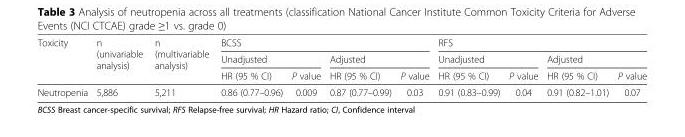table: (36, 36, 646, 97)
table column: (214, 36, 286, 97), (324, 36, 395, 97), (541, 36, 612, 97), (433, 36, 503, 97), (148, 36, 214, 97), (91, 36, 148, 97), (36, 36, 91, 97), (286, 36, 324, 97), (395, 36, 433, 97), (503, 36, 541, 97), (612, 36, 646, 97)
table column header: (36, 36, 646, 83)
table row: (36, 50, 646, 67), (36, 67, 646, 83), (36, 36, 646, 50), (36, 83, 646, 97)
table spanning cell: (148, 36, 214, 83), (214, 36, 433, 50), (433, 36, 646, 50), (91, 36, 148, 83), (36, 36, 91, 83), (214, 50, 324, 67), (324, 50, 433, 67), (433, 50, 541, 67), (541, 50, 646, 67)
